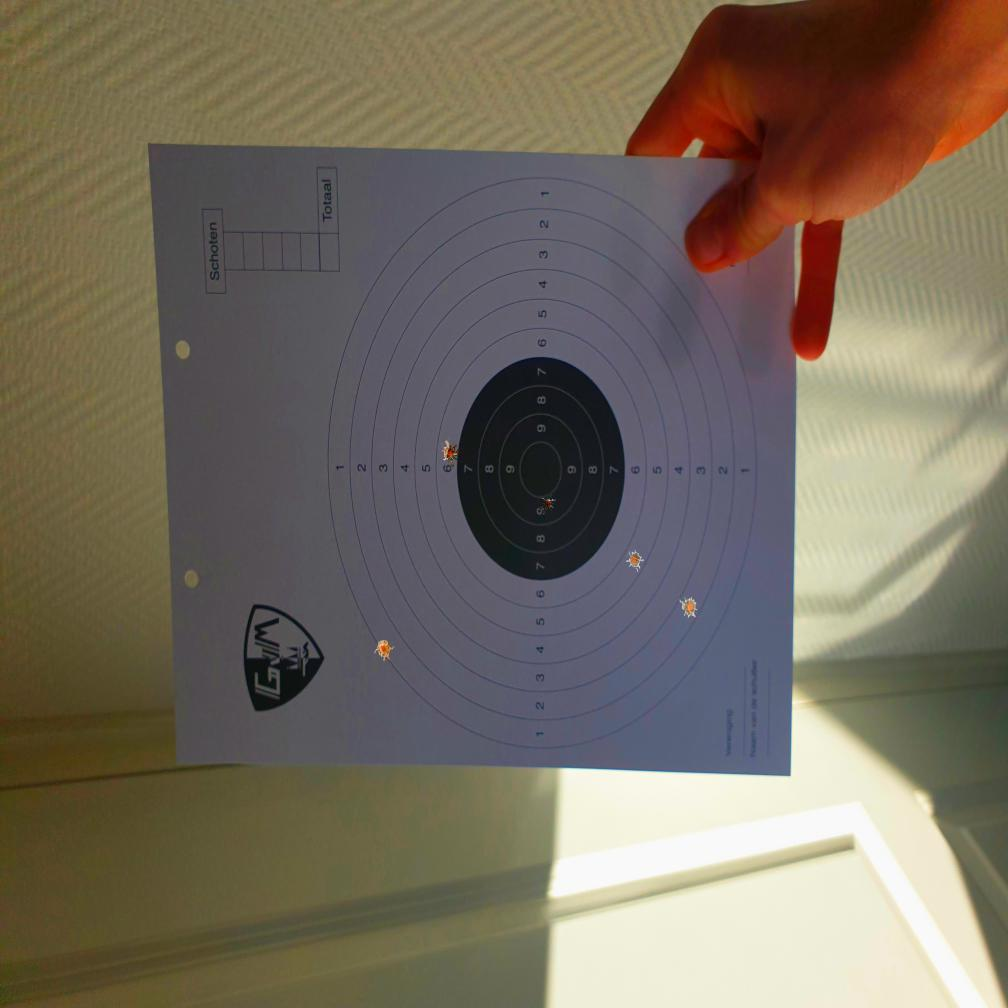1: (374, 640, 392, 661)
10: (538, 491, 556, 513)
2: (679, 596, 698, 618)
5: (626, 550, 644, 572)
7: (442, 440, 460, 467)
Target: (328, 173, 757, 750)
black_contour: (457, 356, 626, 581)
